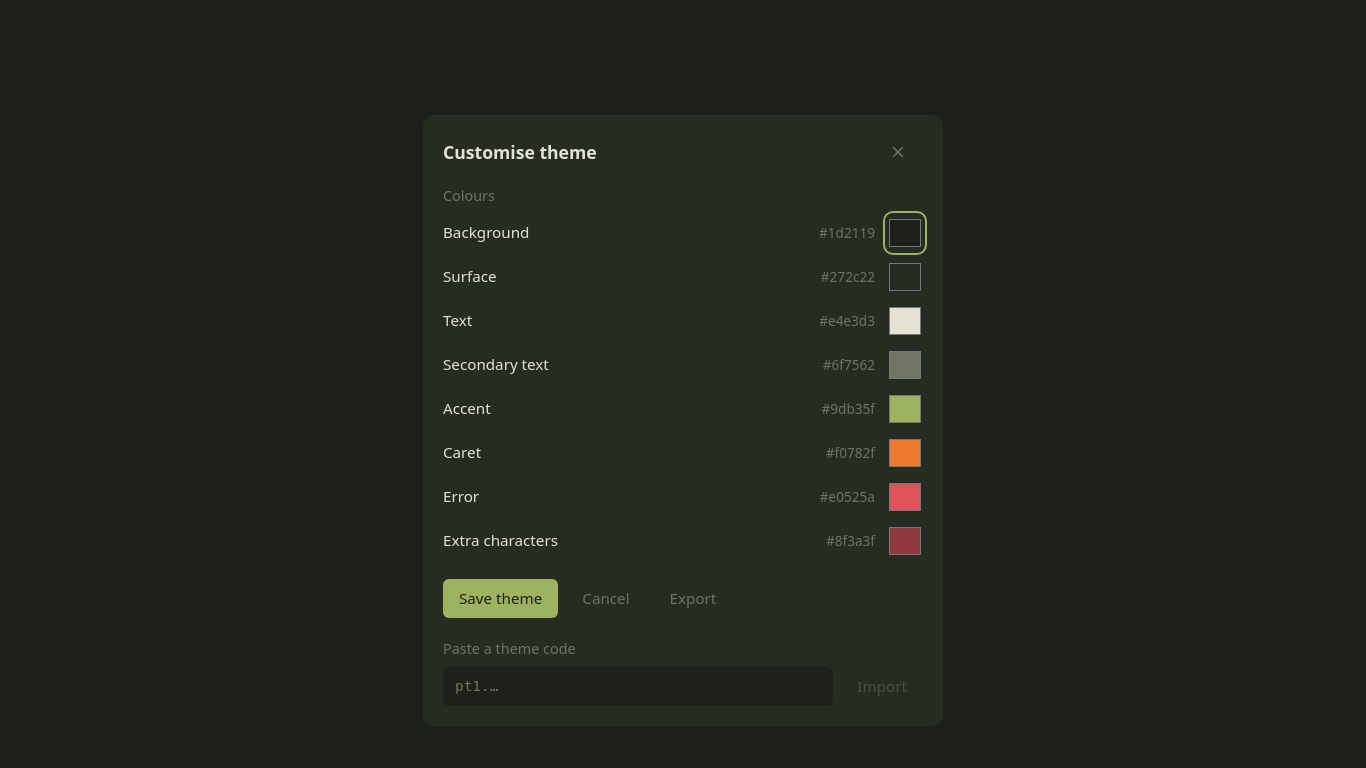
Test: ThemeEditor › shows an error for not a code
The width and height of the screenshot is (1366, 768).
Type "hello" into the field labelled "Paste a theme code".
click(638, 687); type("hello")  # box [443,667,833,706]
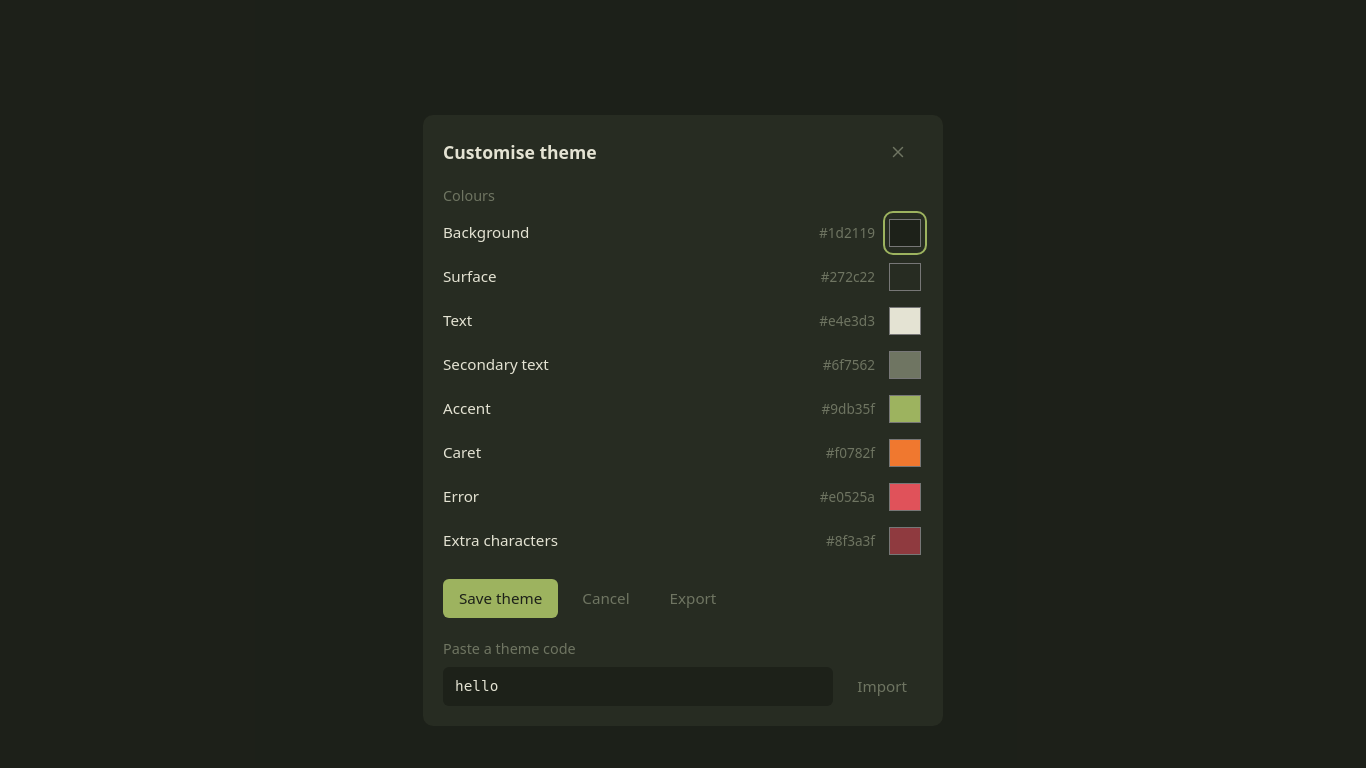
Click the button "Import".
click(882, 687)  # box [841,667,923,706]
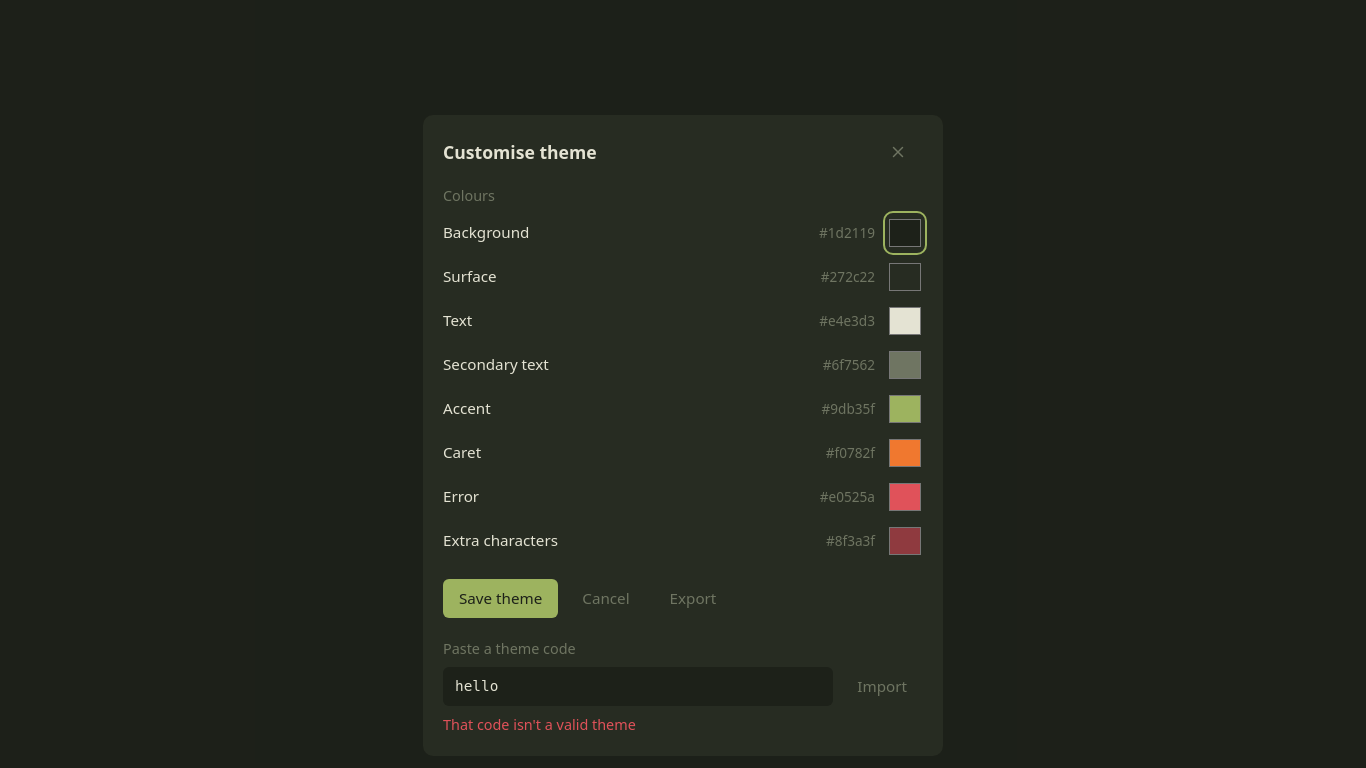
Check: the colour field labelled "Background" holds "#1d2119", box [887,215,923,251]
Check: the message reads "That code isn't a valid theme", box [443,715,636,734]
